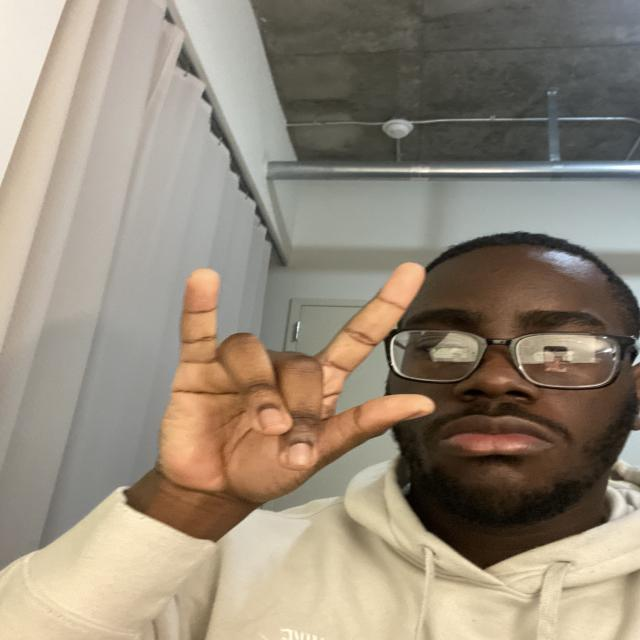I love you: (155, 214, 457, 514)
